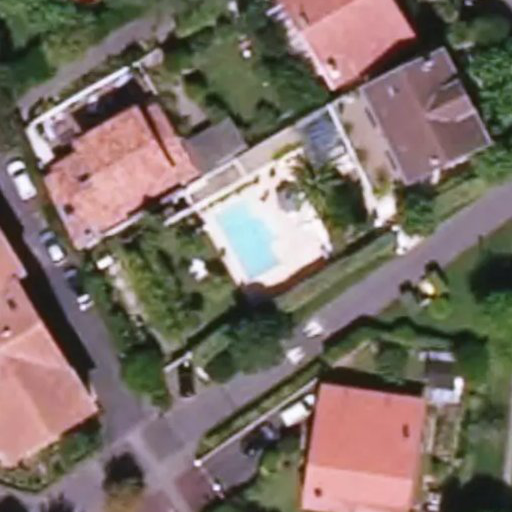pool: (219, 217, 303, 257)
